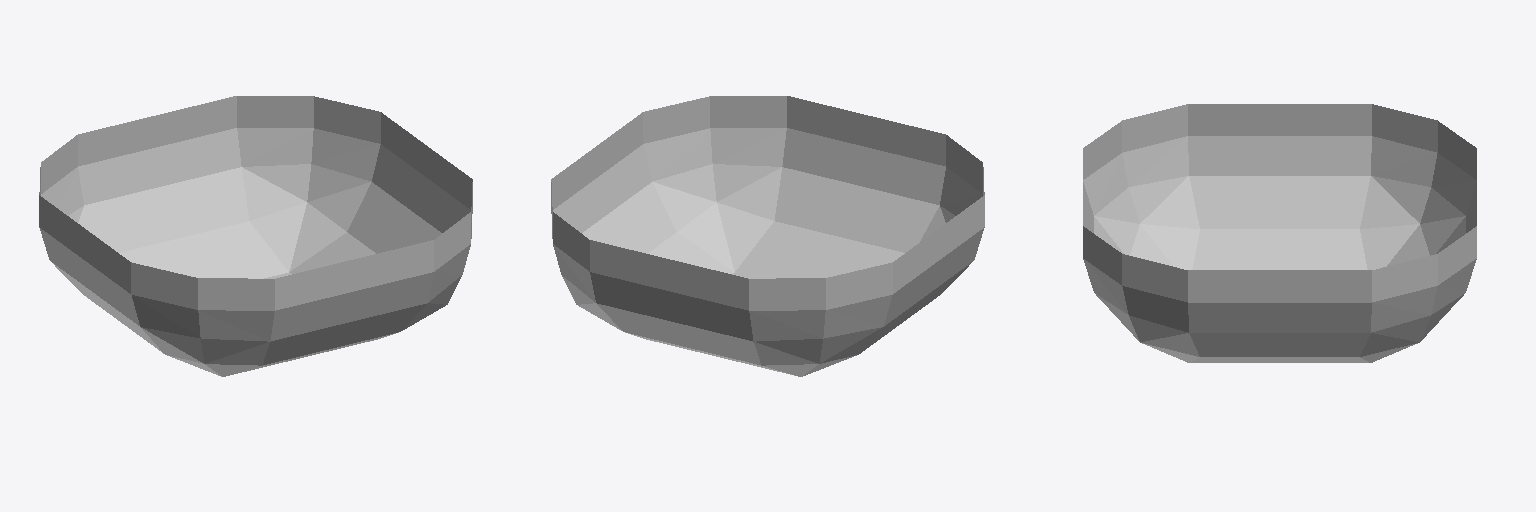
The model's file is cube_box_base_smooth.obj.
3 views of the same model, side by side, from view 1: azimuth 30°, elevation 25°; view 2: azimuth 150°, elevation 25°; view 3: azimuth 270°, elevation 25° (orthographic).
Visible parts, largest first — view 1: cube_box_base_smooth; view 2: cube_box_base_smooth; view 3: cube_box_base_smooth.
Boxes of the visible parts, box(x1,y1,x2,y2) form: cube_box_base_smooth: box(39, 96, 472, 376); cube_box_base_smooth: box(551, 96, 984, 376); cube_box_base_smooth: box(1083, 104, 1476, 362).
Bounding box in the file's own units: 5.27 × 2.03 × 5.27.